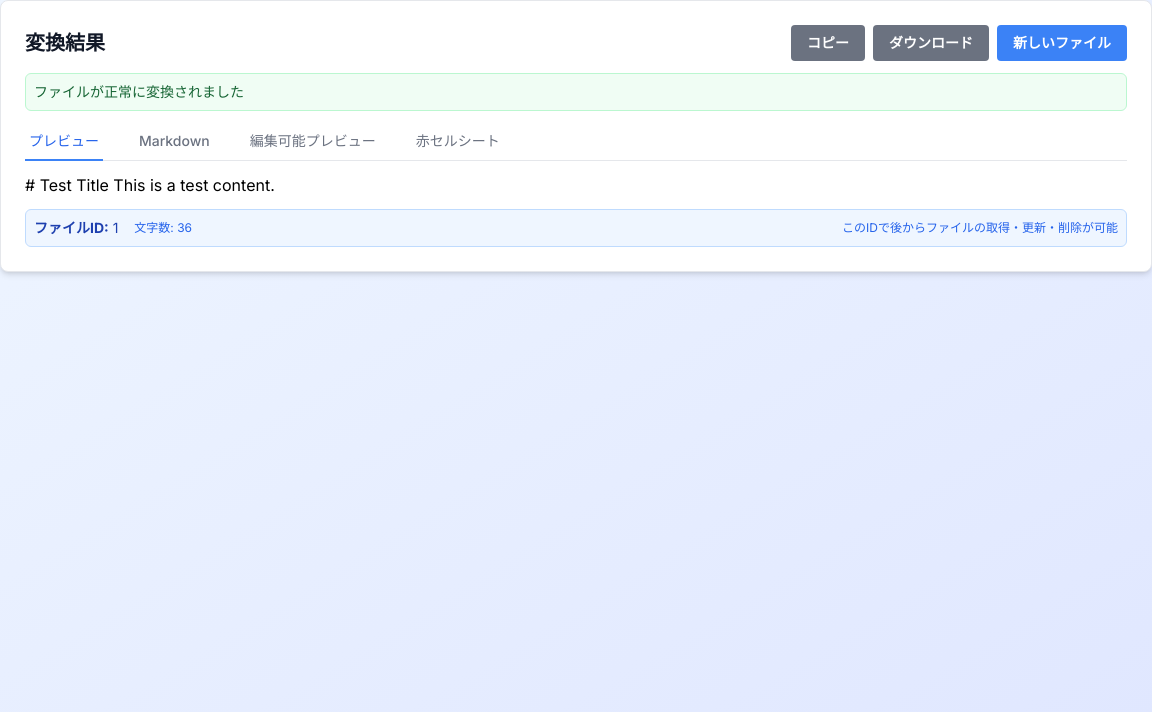
MarkdownDisplay › 赤セルシート設定ボタンをクリックすると設定パネルが表示される
Note: 赤セルシートタブをクリック
Click the button "赤セルシート".
click(458, 142)  # box [412,123,504,161]
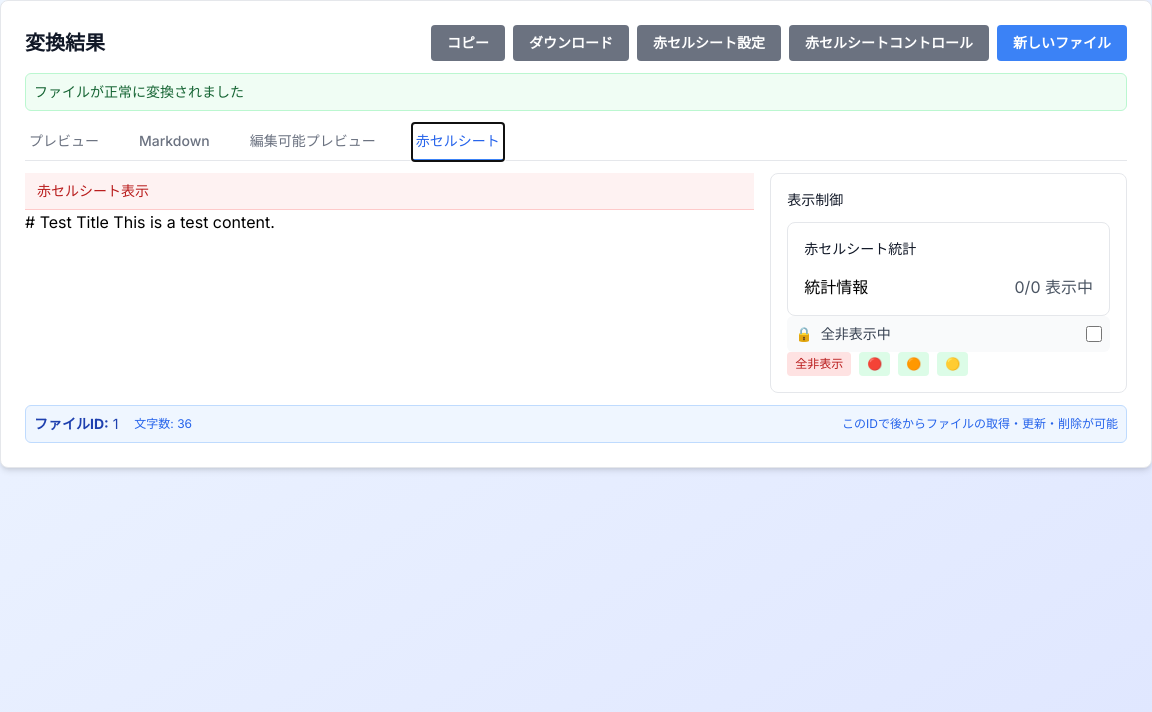
Note: 設定ボタンをクリック
Click the button "赤セルシート設定".
click(709, 43)  # box [637,25,781,61]
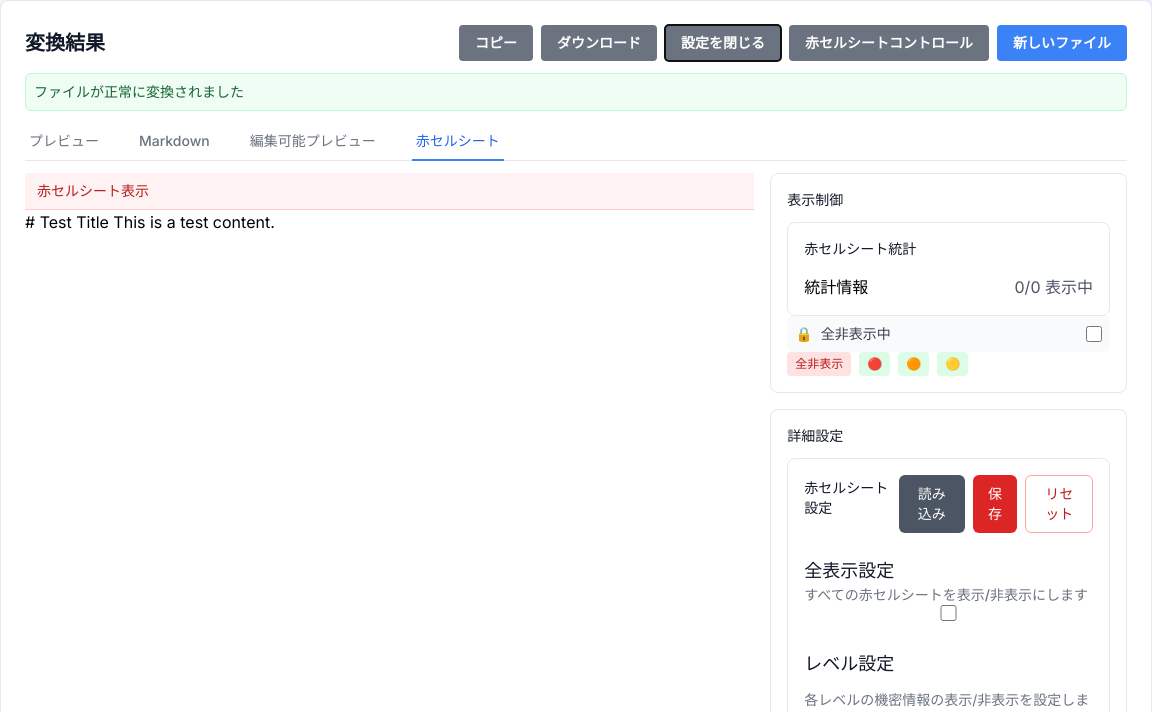
Now the heading "詳細設定" is shown, box [787,427,843,444]
Now the button "設定を閉じる" is shown, box [665,25,781,61]
